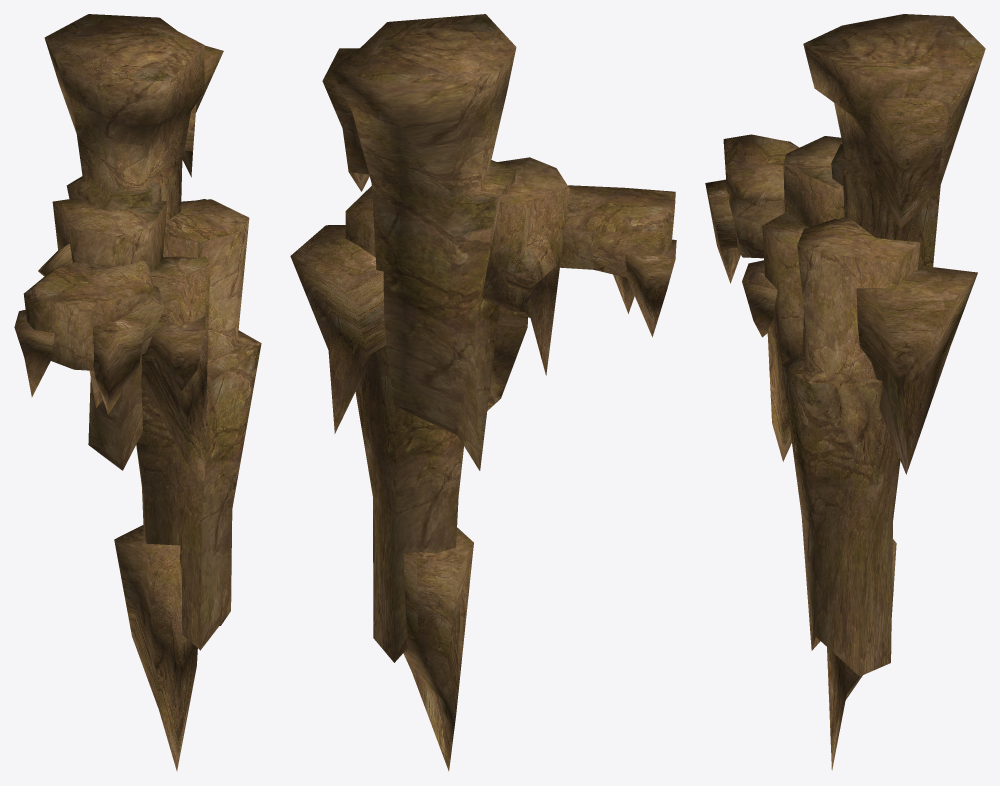
The model's file is S_Rock_Yellow004.FBX.
The picture shows the model from 3 angles, left to right: view 1: azimuth 30°, elevation 25°; view 2: azimuth 150°, elevation 25°; view 3: azimuth 270°, elevation 25°; orthographic projection. The views are drawn at different scales.
Parts seen in each view (by area): view 1: S_Rock_Yellow004; view 2: S_Rock_Yellow004; view 3: S_Rock_Yellow004.
Part boxes in pixels (x1,y1,x2,y2): S_Rock_Yellow004: (14, 14, 261, 770); S_Rock_Yellow004: (290, 14, 676, 771); S_Rock_Yellow004: (705, 14, 985, 770).
Bounding box in the file's own units: 1278 × 1094 × 3098.
